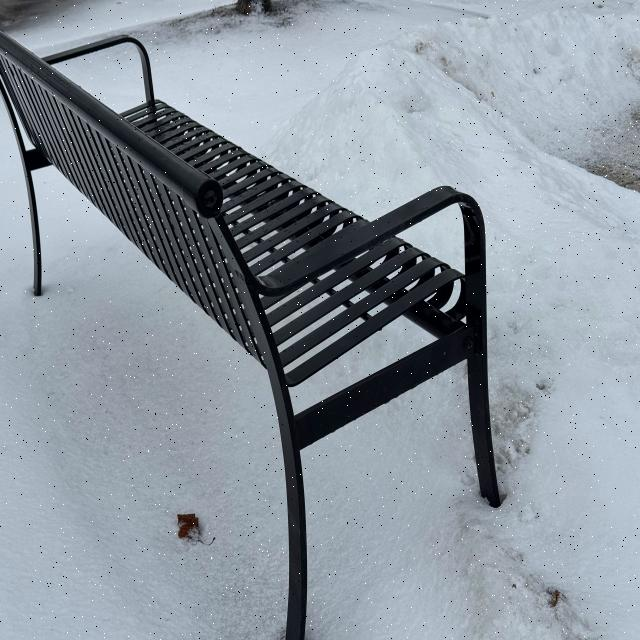Bench: (14, 36, 518, 636)
